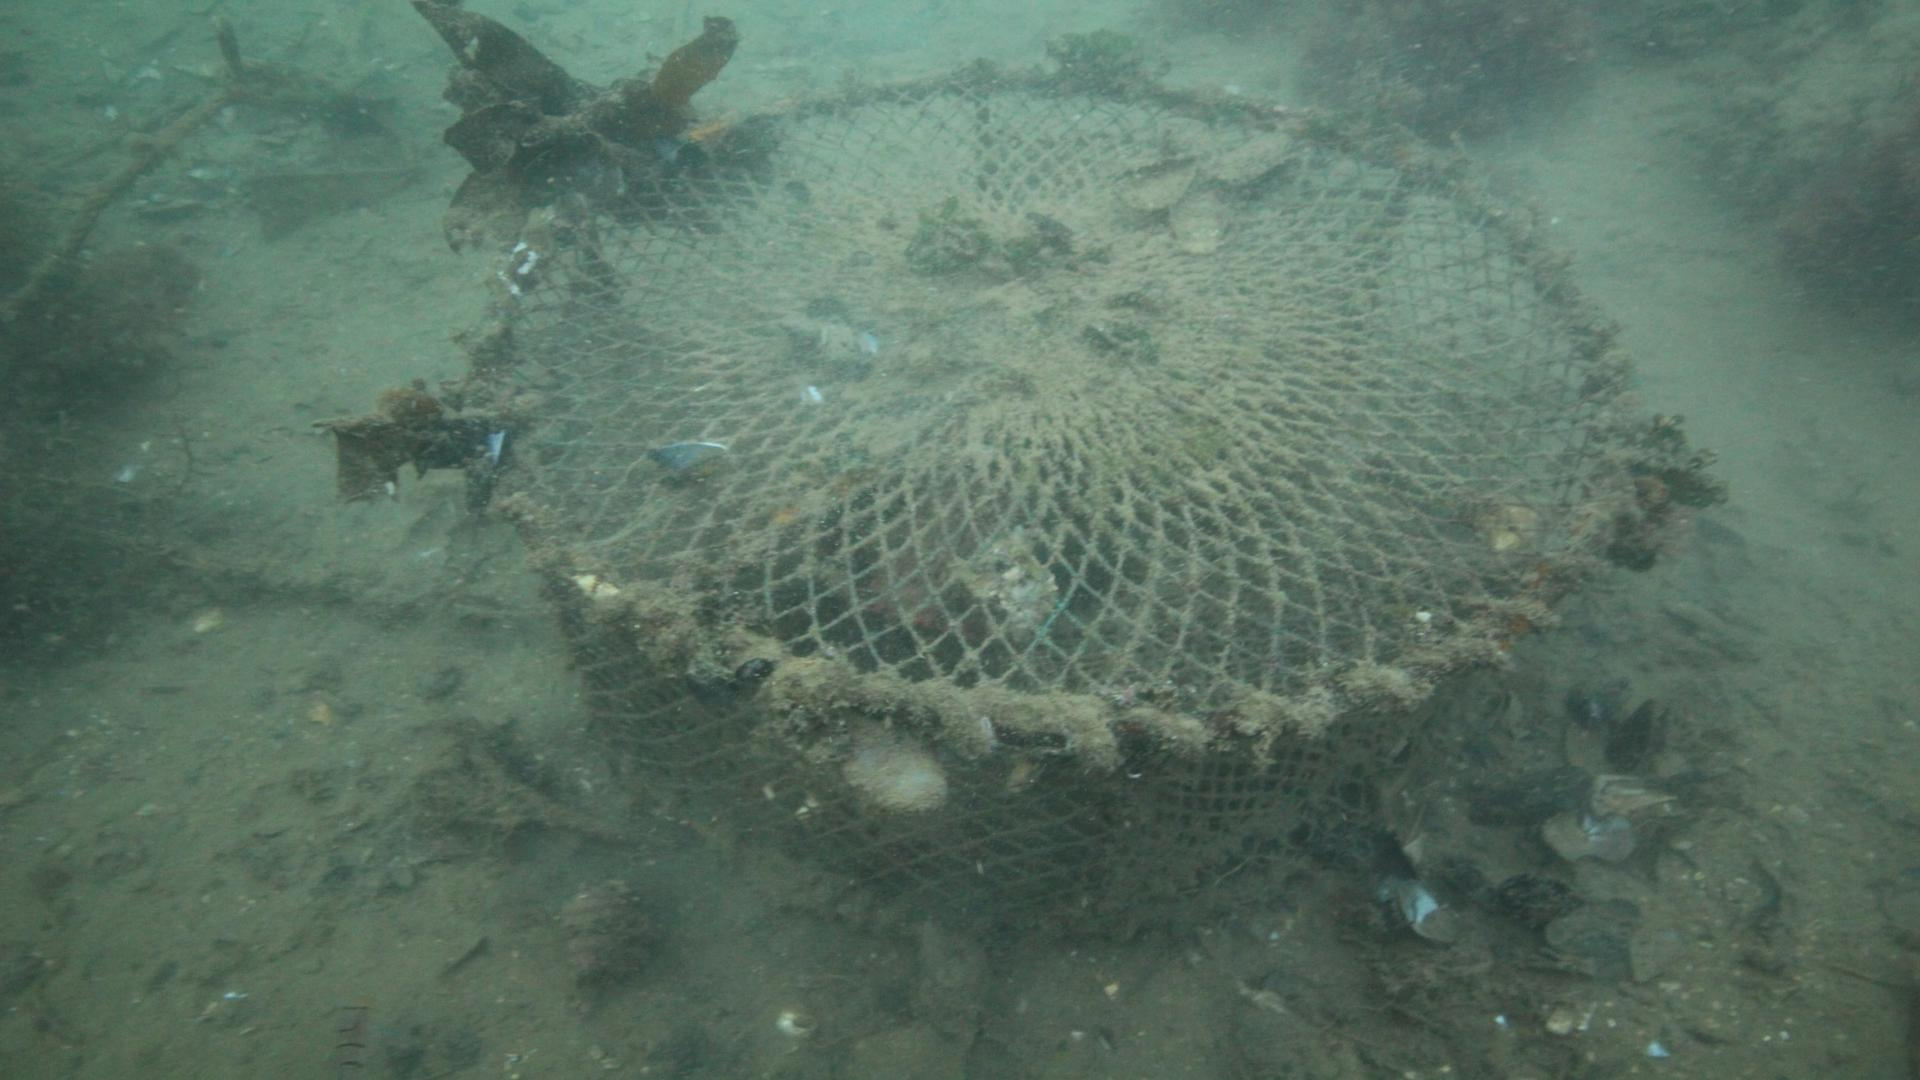circular fish trap: (491, 54, 1644, 945)
